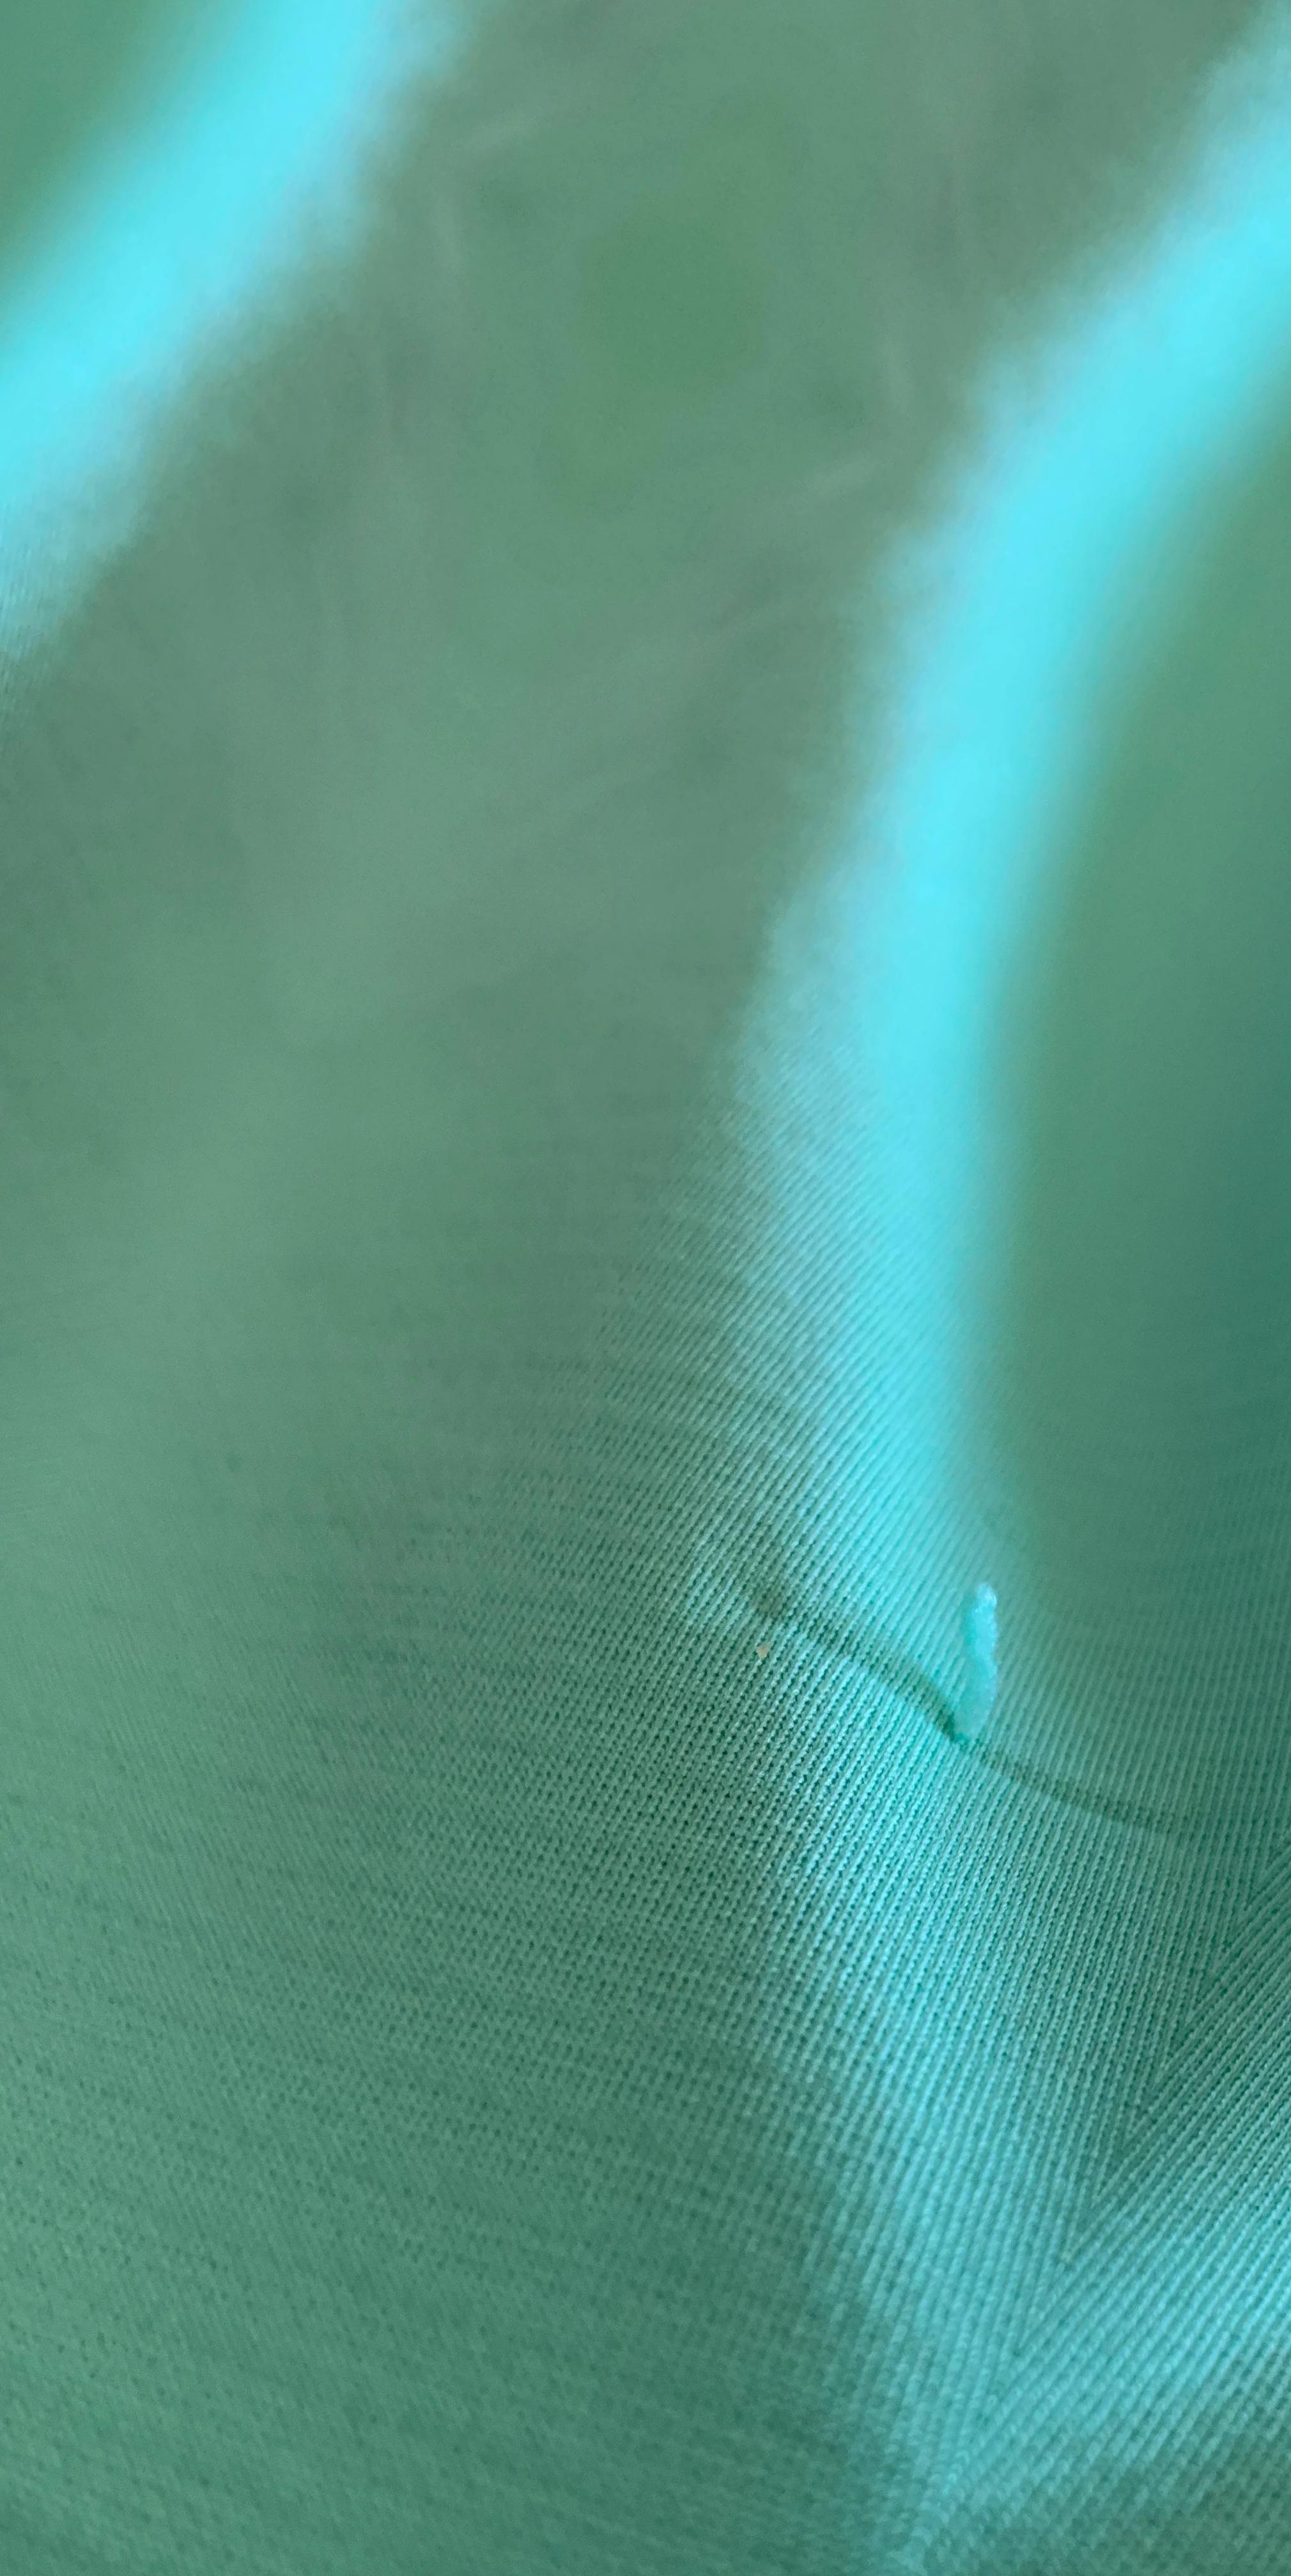snag: (853, 1481, 1123, 1801)
